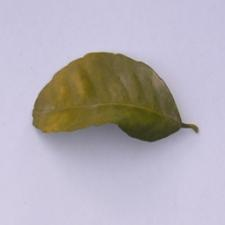Greening: (47, 55, 195, 153)
